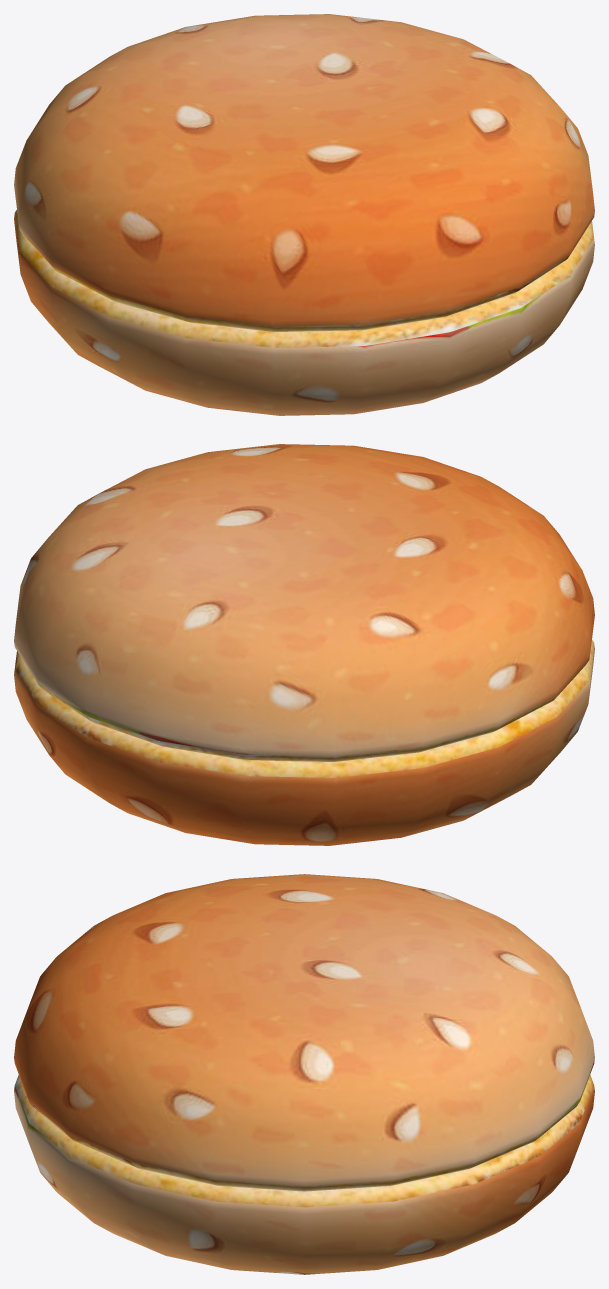
Rendered from Burger.fbx.
3 renders of one model, top to bottom at view 1: azimuth 30°, elevation 25°; view 2: azimuth 150°, elevation 25°; view 3: azimuth 270°, elevation 25°, orthographic.
Visible parts, largest first — view 1: pSphere5; view 2: pSphere5; view 3: pSphere5.
Part boxes in pixels (x1=…): pSphere5: x1=14, y1=14, x2=594, y2=415; pSphere5: x1=14, y1=444, x2=594, y2=845; pSphere5: x1=14, y1=874, x2=594, y2=1274.
Size of the model in its own units: 5.96 by 2.88 by 5.96.
